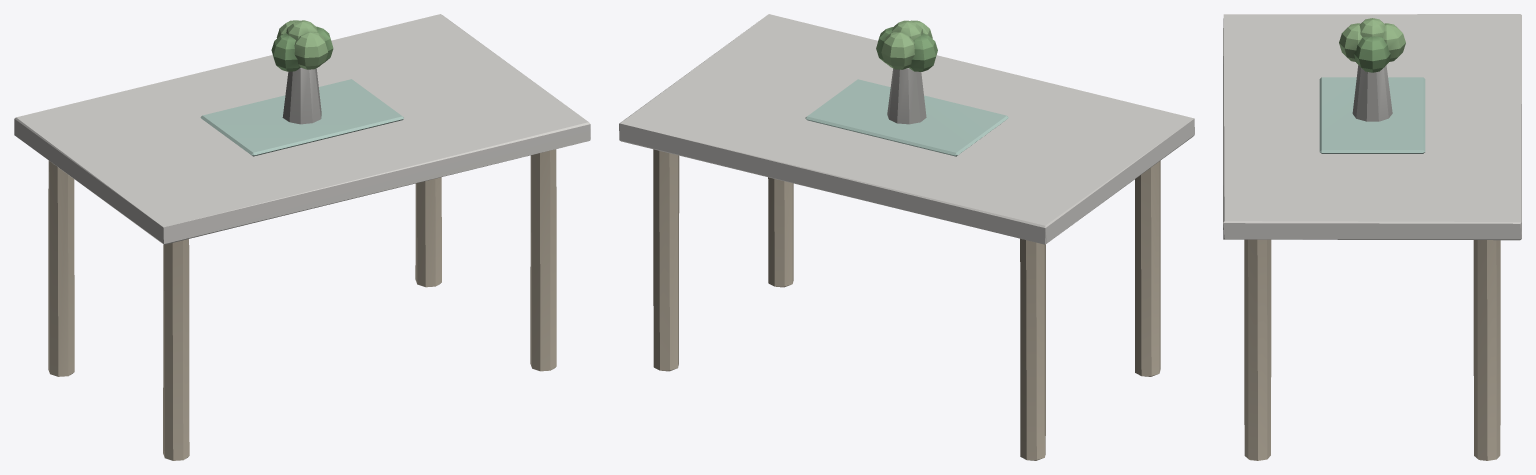
The model's file is furn_dining_table__white_low.glb.
3 views of the same model, side by side, from view 1: azimuth 30°, elevation 25°; view 2: azimuth 150°, elevation 25°; view 3: azimuth 270°, elevation 25° (orthographic).
Size of the model in its own units: 1.4 by 1.09 by 0.8468.
